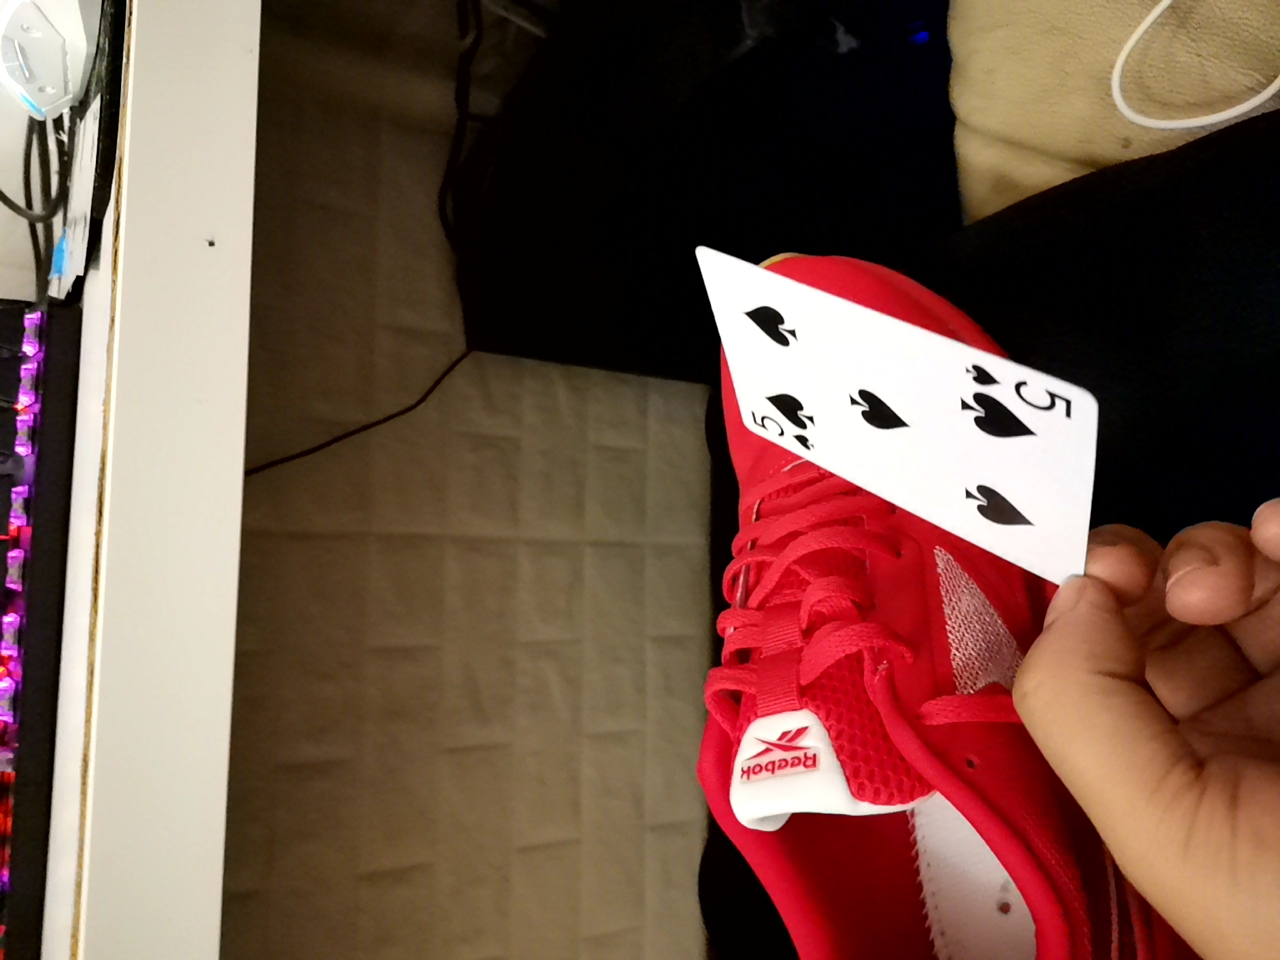ht 5: (699, 266, 1090, 597)
